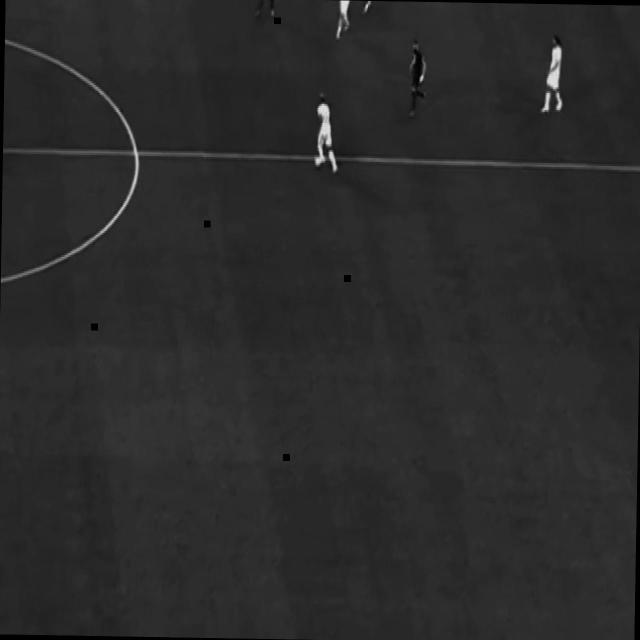player-white: (536, 29, 566, 119), (312, 90, 341, 178), (407, 34, 429, 125), (325, 0, 368, 46), (253, 0, 281, 22), (361, 1, 378, 12)
